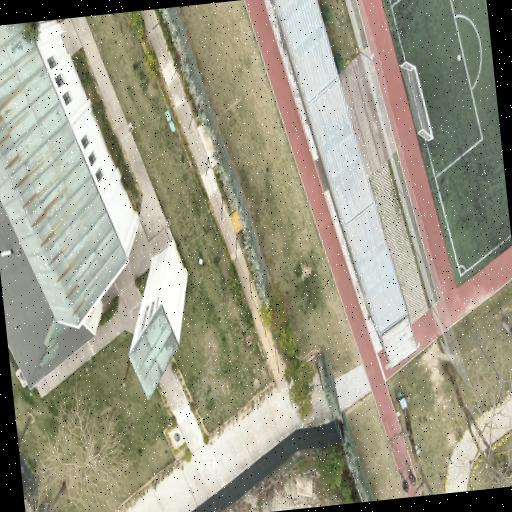person: (407, 461, 416, 484), (400, 471, 408, 492)
